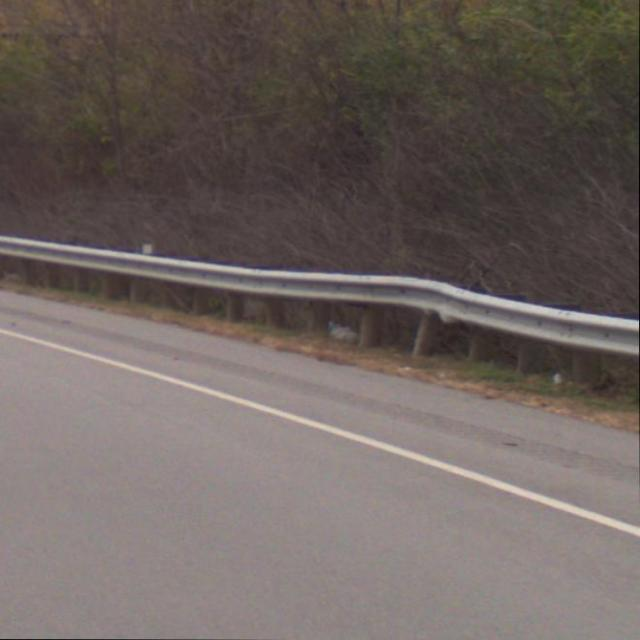Guard rail: (0, 232, 640, 403)
